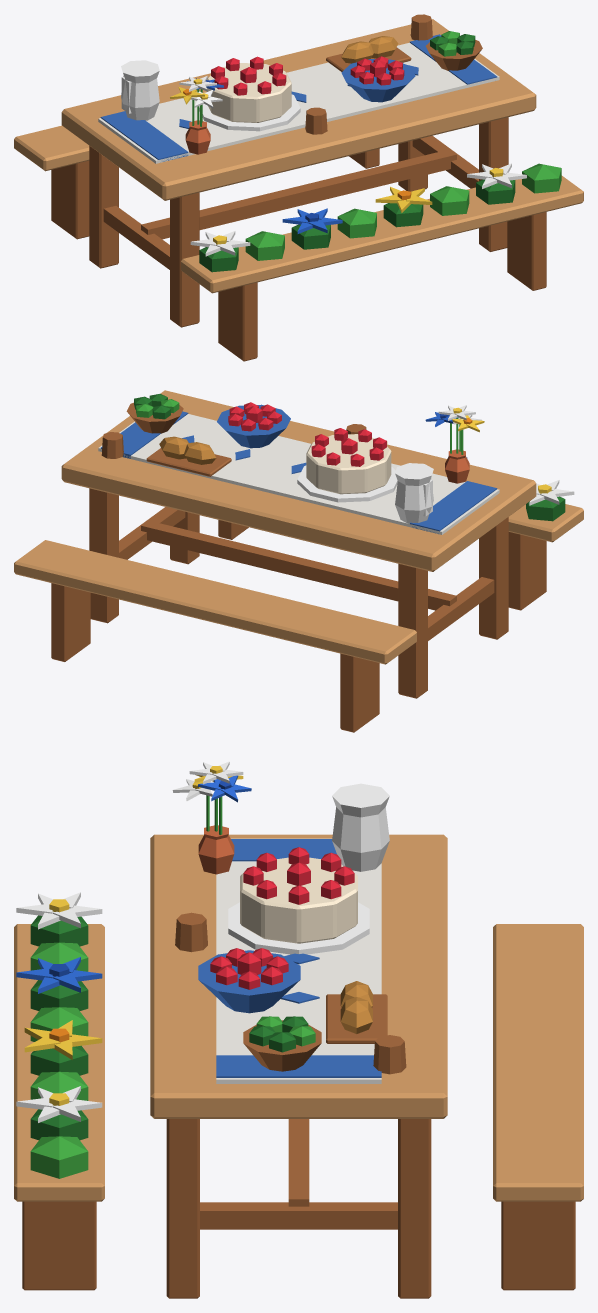
The model's file is banquet-table-2x2.glb.
3 renders of one model, top to bottom at view 1: azimuth 30°, elevation 25°; view 2: azimuth 150°, elevation 25°; view 3: azimuth 270°, elevation 25°, orthographic. The views are drawn at different scales.
Parts seen in each view (by area): view 1: banquet-table-2x2; view 2: banquet-table-2x2; view 3: banquet-table-2x2.
Boxes of the visible parts, x1=… form: banquet-table-2x2: x1=14, y1=14, x2=583, y2=361; banquet-table-2x2: x1=14, y1=390, x2=583, y2=732; banquet-table-2x2: x1=14, y1=761, x2=583, y2=1298.
Size of the model in its own units: 1.8 by 1.04 by 1.66.
1 material, 1 textured.
